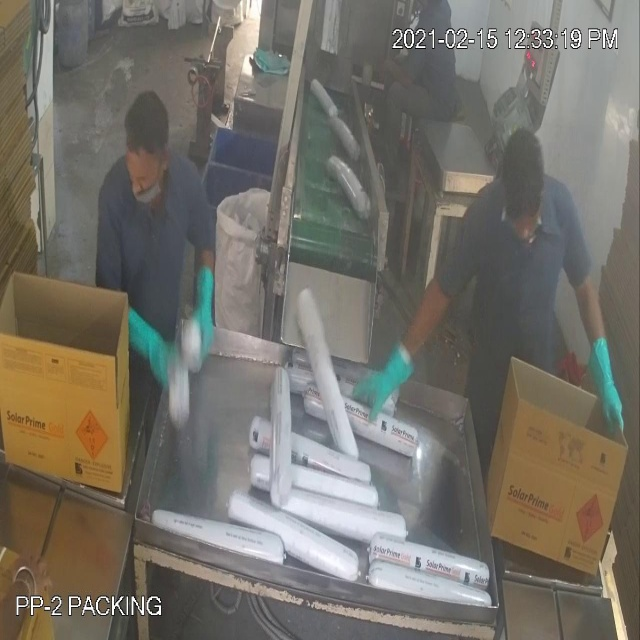Guantes: (352, 287, 433, 429), (102, 278, 179, 396), (581, 317, 632, 449), (180, 249, 226, 368)
Sin_guantes: (368, 48, 417, 92)
